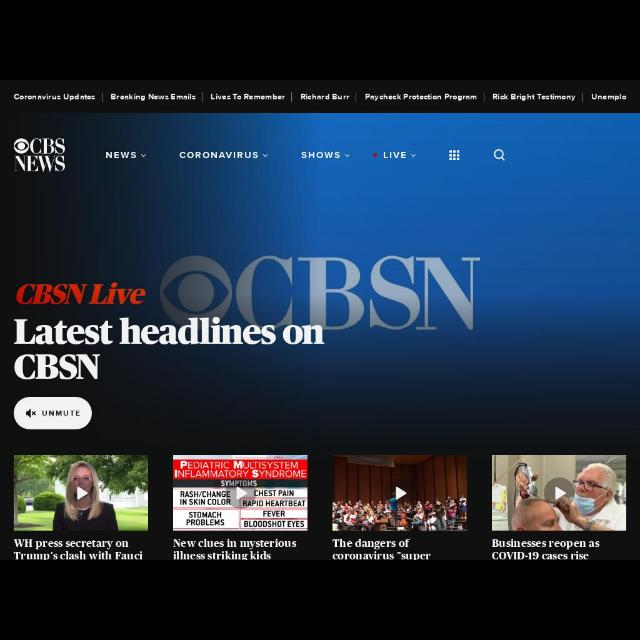backgroundimage: (2, 82, 640, 556)
icon: (446, 149, 462, 163), (491, 148, 507, 162), (24, 408, 38, 420), (409, 151, 417, 159), (343, 151, 351, 159), (262, 152, 270, 160), (140, 152, 148, 158)
image: (10, 451, 148, 531), (332, 456, 466, 534), (172, 456, 308, 528), (494, 456, 626, 530), (14, 136, 66, 172)
multitab: (1, 82, 639, 110)
spinner: (176, 148, 270, 164), (297, 150, 353, 164), (371, 148, 422, 162), (104, 148, 150, 162)
text: (13, 317, 325, 383), (15, 283, 145, 307), (173, 537, 299, 559), (11, 538, 144, 558), (492, 538, 606, 558), (332, 537, 432, 559), (364, 92, 478, 104), (490, 92, 578, 104), (13, 91, 97, 103), (178, 150, 258, 160), (110, 94, 198, 102), (42, 406, 82, 422), (210, 94, 286, 102), (299, 94, 349, 102), (300, 152, 340, 160), (590, 94, 626, 102), (105, 152, 137, 160), (382, 150, 406, 160)
textbutton: (13, 395, 92, 429)
